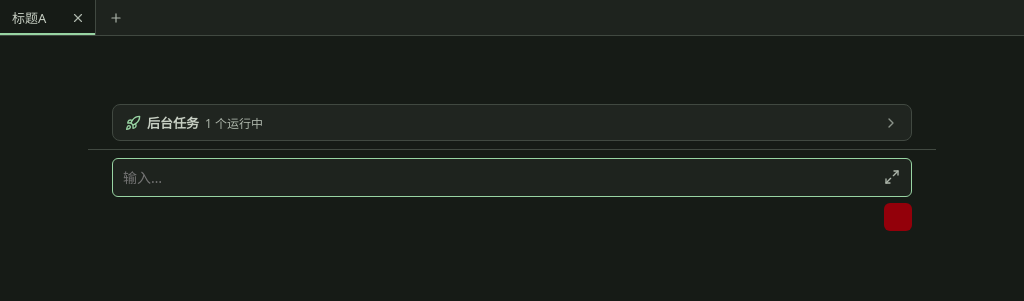
Test case: 后台 shell 输出窗（review 修订：phase 竞态 + Gone 空态） › 404 空态按因二分：非本端停止 → Gone（服务器重启/过期清理）文案
The image size is (1024, 301).
Click the text "后台任务" at x=173, y=122, box x1=147 y1=113 x2=199 y2=132
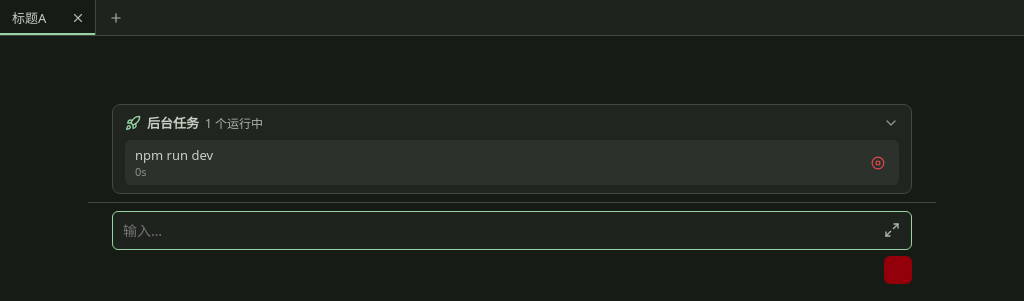
Click the text "npm run dev" at x=174, y=155, box x1=135 y1=146 x2=213 y2=164
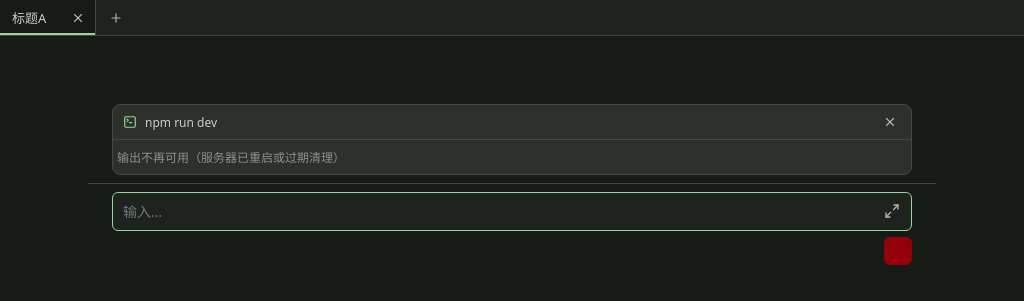
Check: the text "输出不再可用（服务器已重启或过期清理）" is shown, box x1=117 y1=149 x2=345 y2=166
